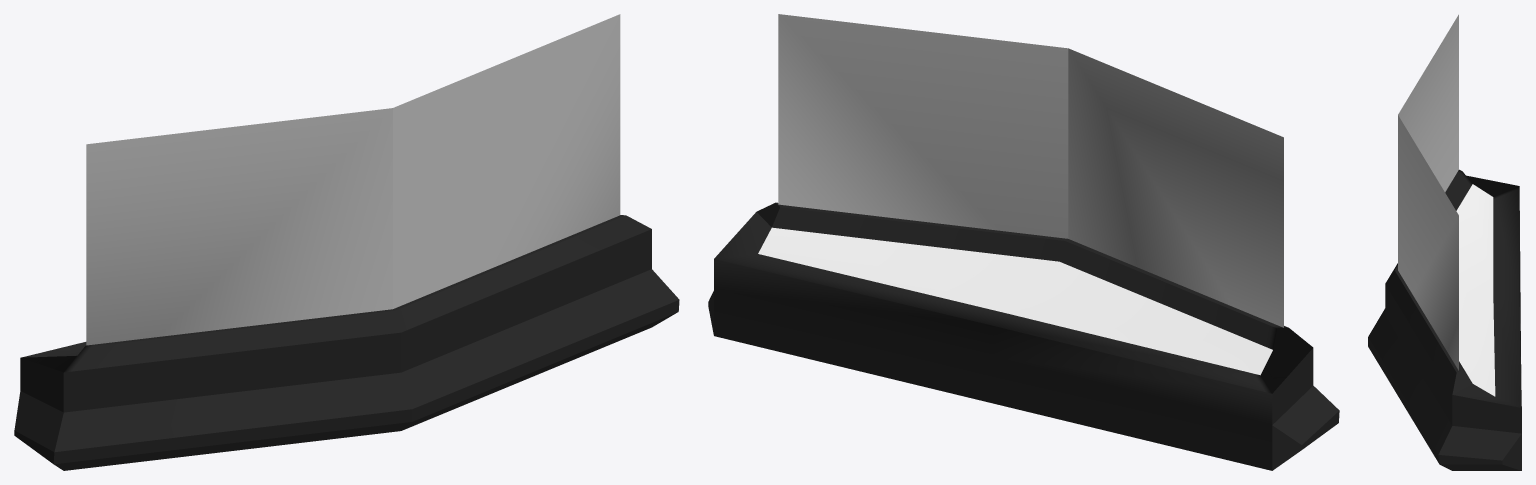
File: StructureLight07_Art.fbx
3 renders of one model, left to right at view 1: azimuth 30°, elevation 25°; view 2: azimuth 150°, elevation 25°; view 3: azimuth 270°, elevation 25°, orthographic. The views are drawn at different scales.
Parts seen in each view (by area): view 1: StructureLight07_Art; view 2: StructureLight07_Art; view 3: StructureLight07_Art.
Part boxes in pixels (<box>): StructureLight07_Art: <box>14,14,679,470</box>; StructureLight07_Art: <box>708,14,1339,470</box>; StructureLight07_Art: <box>1368,14,1521,470</box>.
Bounding box in the file's own units: 2.23 × 1.08 × 0.6148.
